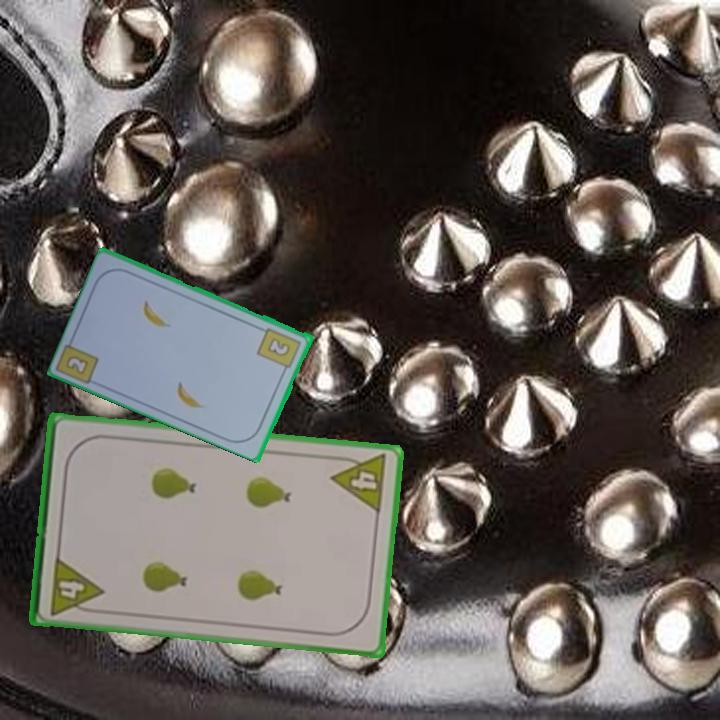2b: (254, 324, 304, 376), (65, 354, 89, 375)
4p: (328, 451, 390, 516), (46, 553, 106, 618)
